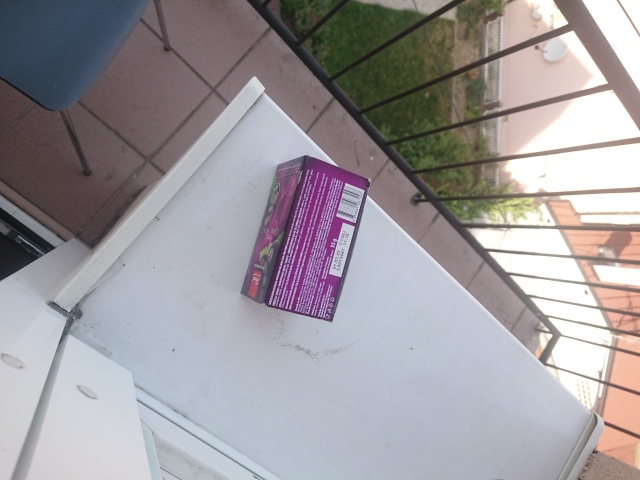Franck Black Currant Tea 60g: (237, 152, 374, 325)
